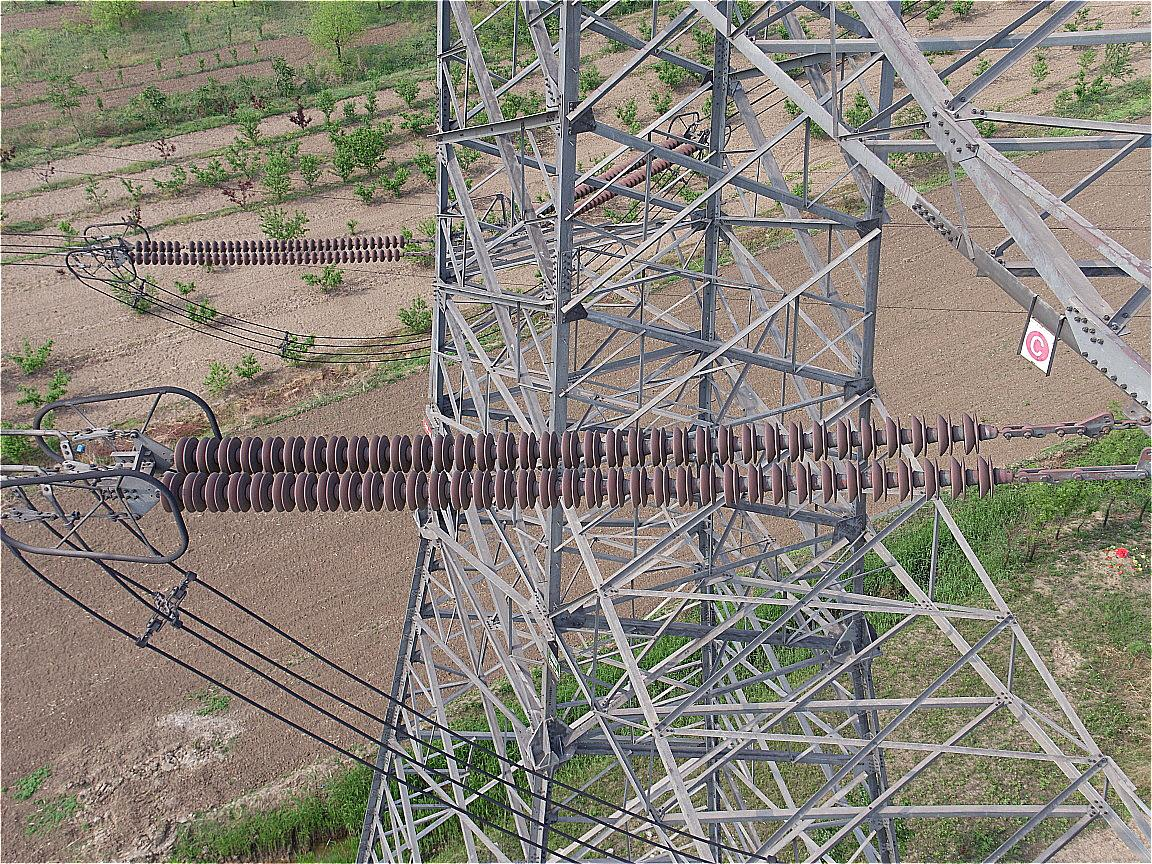insultor1: (127, 233, 407, 269)
insultor2: (160, 414, 997, 511)
